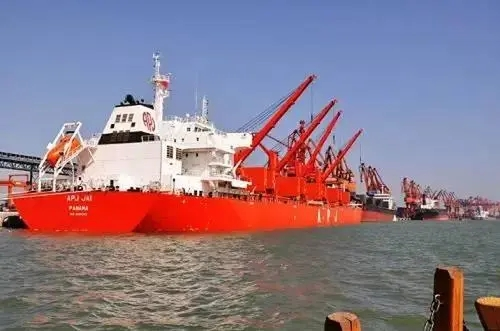Cargoship: (8, 54, 376, 231)
